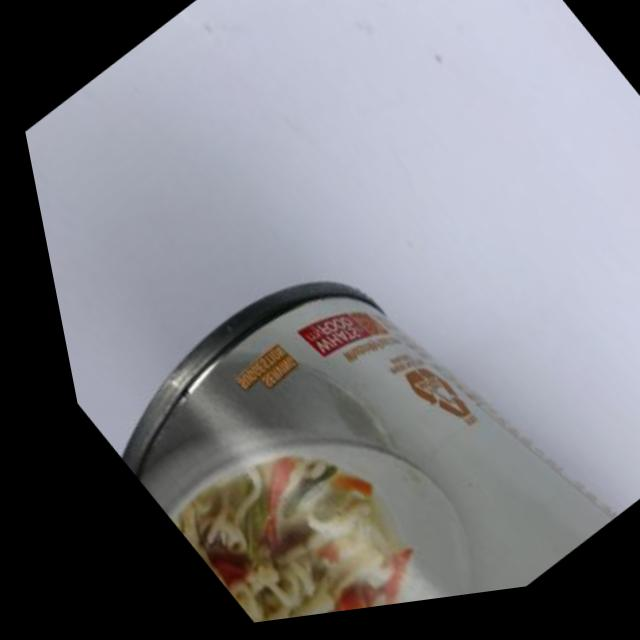metal: (29, 134, 620, 640)
